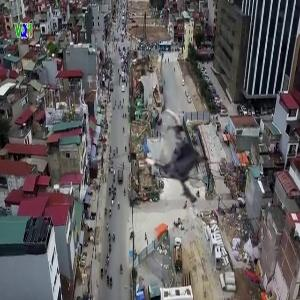drone: (129, 109, 233, 213)
